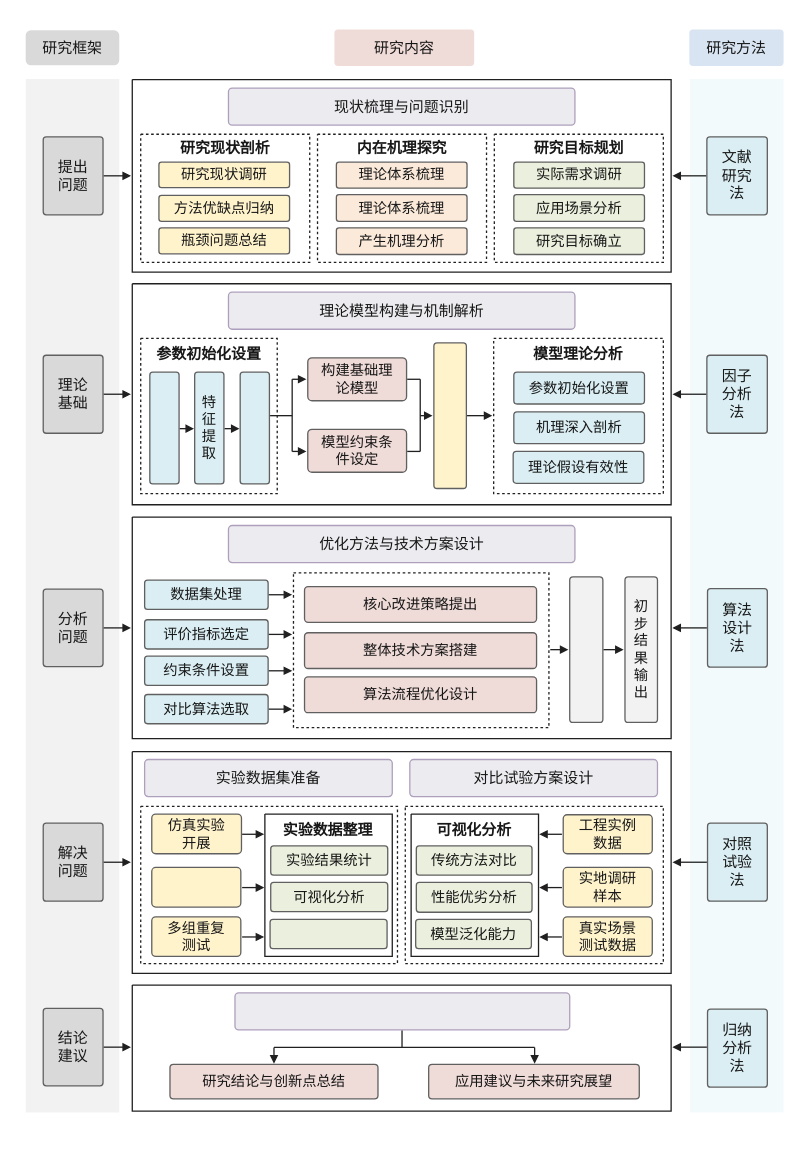
Some shapes in this 806 by 1155 pixel diagram are drawn without their labels. Each missing label, with the box of its shape:
关 键 因 子 确 定: (239, 371, 270, 484)
数 据 筛 选: (149, 371, 179, 484)
方 案 仿 真 验 证: (569, 576, 603, 723)
模 型 合 理 性 论 证: (433, 342, 467, 489)
消融对照 试验: (151, 866, 241, 907)
研究结论与应用展望: (234, 992, 570, 1030)
误差来源分析: (269, 918, 387, 949)
